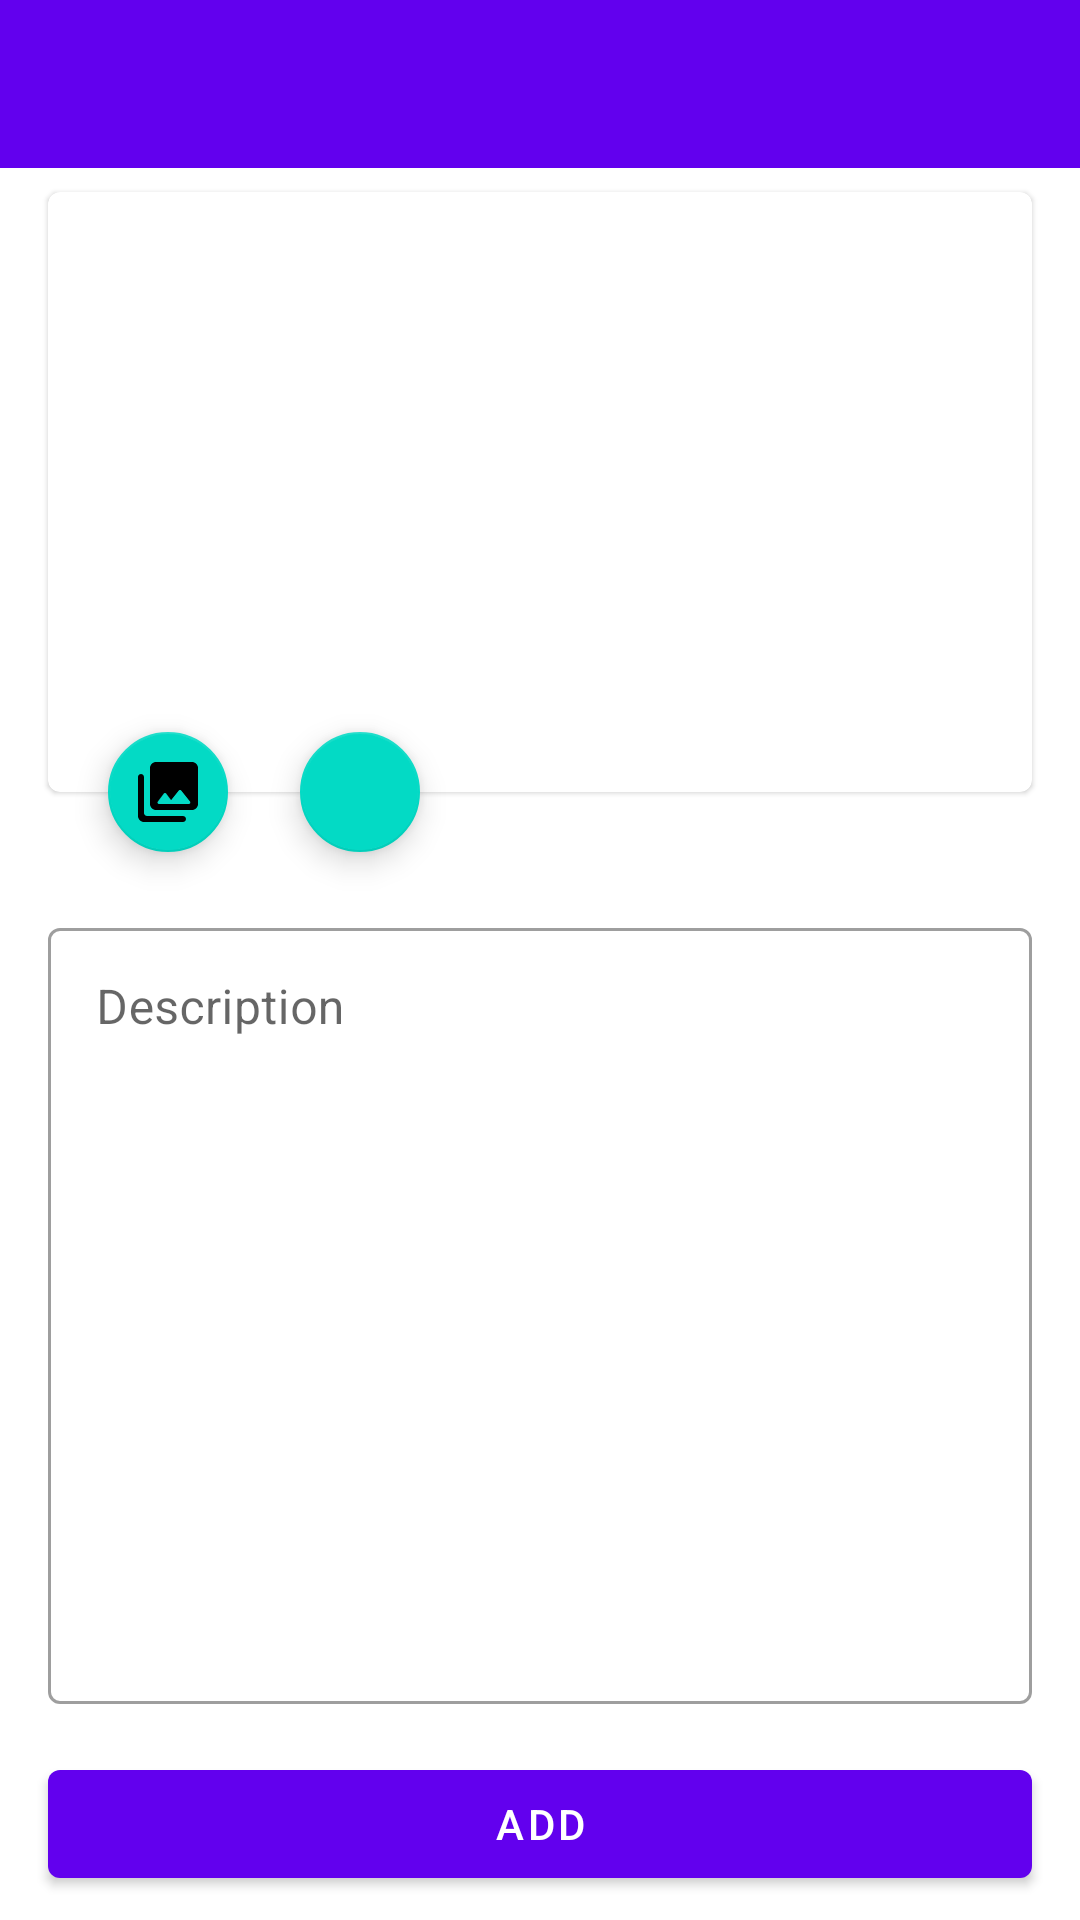

Icon click points for this 1080px×1920px phone screenshot, format (x,y):
Button open gallery: (168,794)
